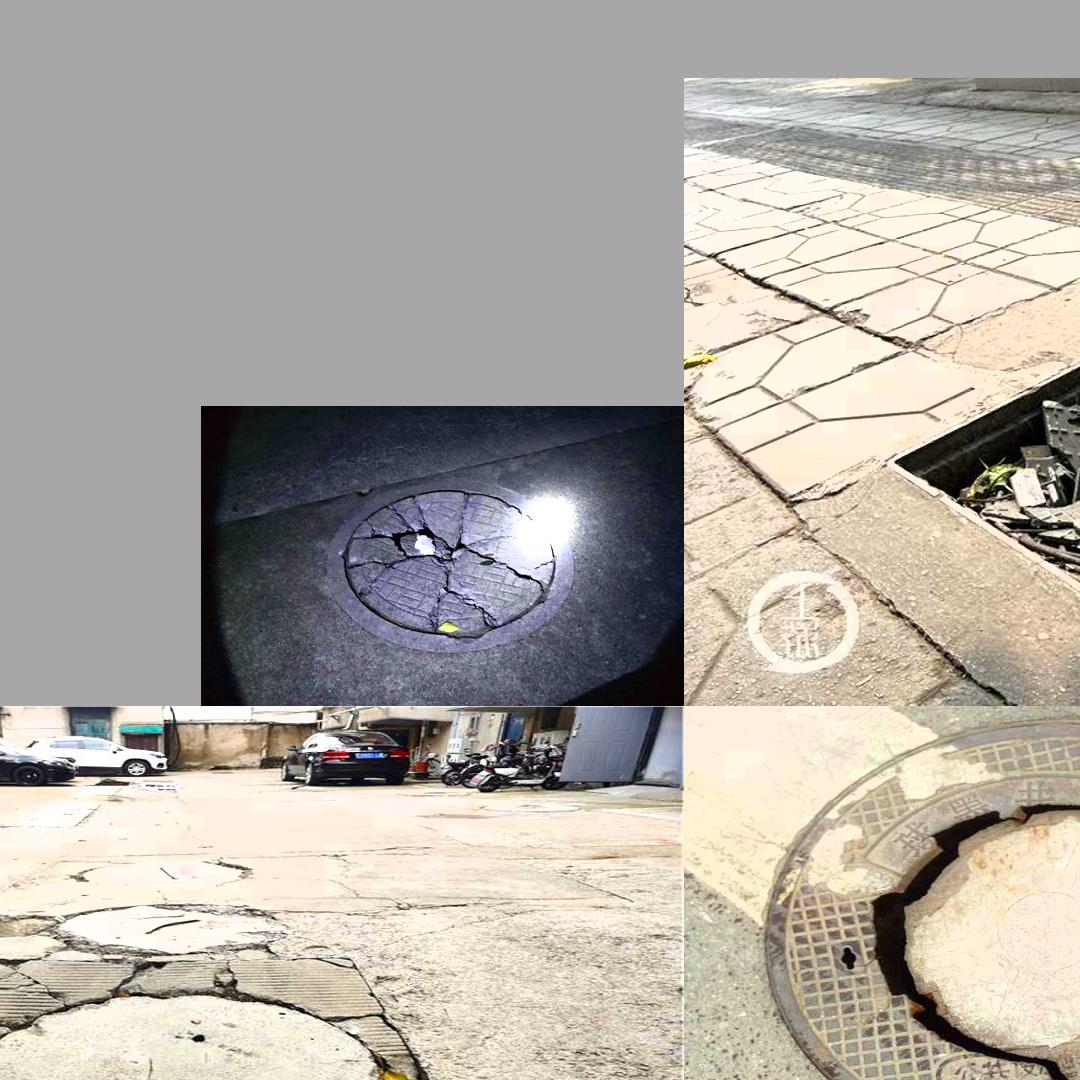broke: (745, 283, 1080, 698), (749, 713, 1080, 1080), (0, 932, 450, 1080), (319, 483, 583, 646)
